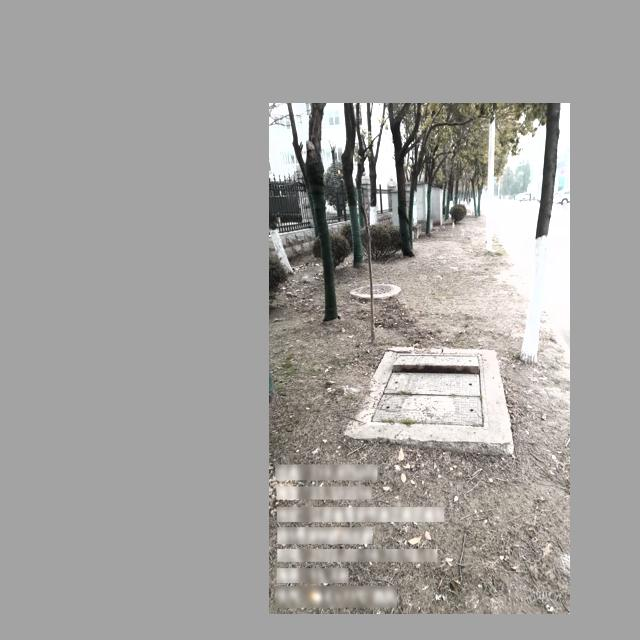good: (349, 284, 395, 299)
uncovered: (365, 350, 488, 431)
